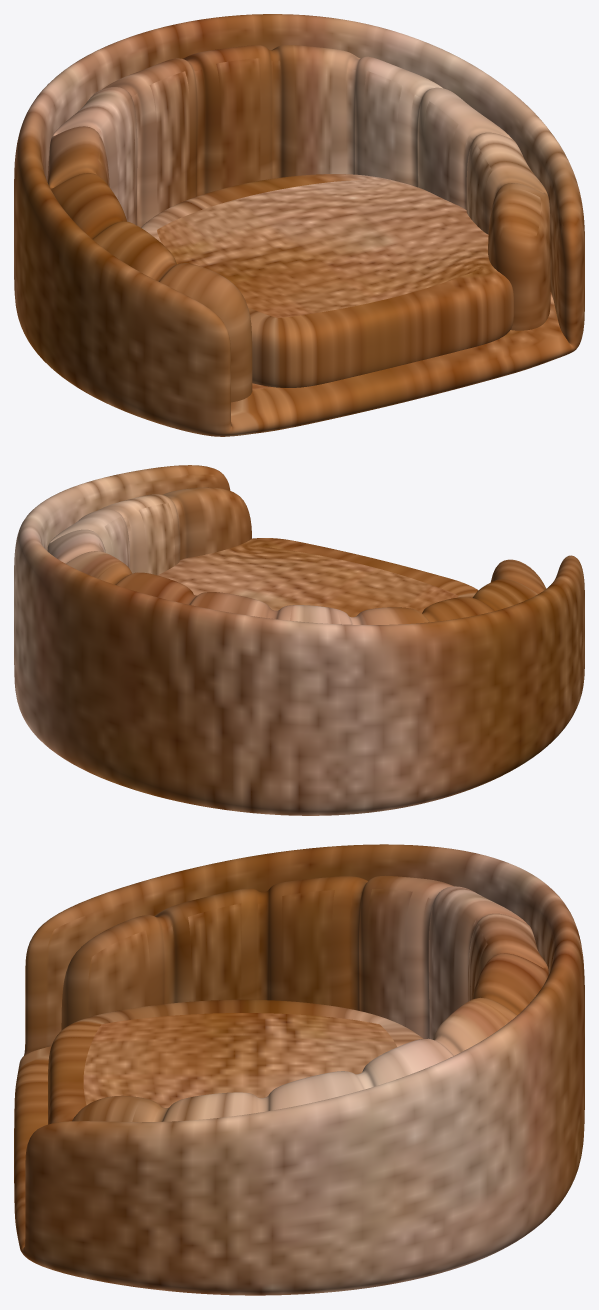
The model's file is sofa3.glb.
3 views of the same model, one above another, from view 1: azimuth 30°, elevation 25°; view 2: azimuth 150°, elevation 25°; view 3: azimuth 270°, elevation 25° (orthographic). The views are drawn at different scales.
Visible parts, largest first — view 1: Cube, Cube.001, Cube.002; view 2: Cube, Cube.001, Cube.002; view 3: Cube, Cube.001, Cube.002.
Part boxes in pixels (x1,y1,x2,y2): Cube: (14, 14, 584, 436); Cube.001: (47, 45, 550, 402); Cube.002: (141, 174, 513, 387); Cube: (14, 465, 584, 815); Cube.001: (47, 487, 546, 624); Cube.002: (158, 538, 478, 617); Cube: (14, 844, 584, 1295); Cube.001: (61, 875, 548, 1122); Cube.002: (48, 999, 423, 1124).
Size of the model in its own units: 0.9235 by 0.374 by 0.8176.
Materials: 2 (2 with a texture image).
